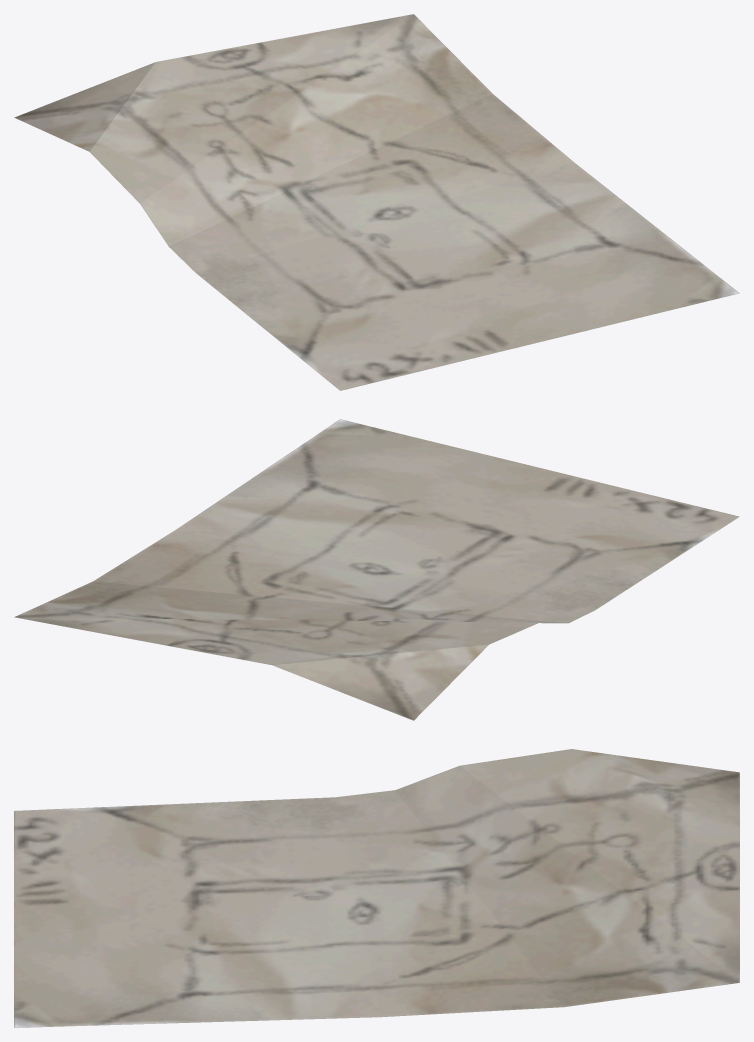
File: feuilleporte.glb
The picture shows the model from 3 angles, top to bottom: view 1: azimuth 30°, elevation 25°; view 2: azimuth 150°, elevation 25°; view 3: azimuth 270°, elevation 25°; orthographic projection. The views are drawn at different scales.
Visible parts, largest first — view 1: Plane; view 2: Plane; view 3: Plane.
Part boxes in pixels (<box>): Plane: <box>14,14,739,390</box>; Plane: <box>14,419,739,720</box>; Plane: <box>14,749,739,1027</box>.
Bounding box in the file's own units: 0.2868 × 0.0381 × 0.4052.
Materials: 1 (1 with a texture image).
